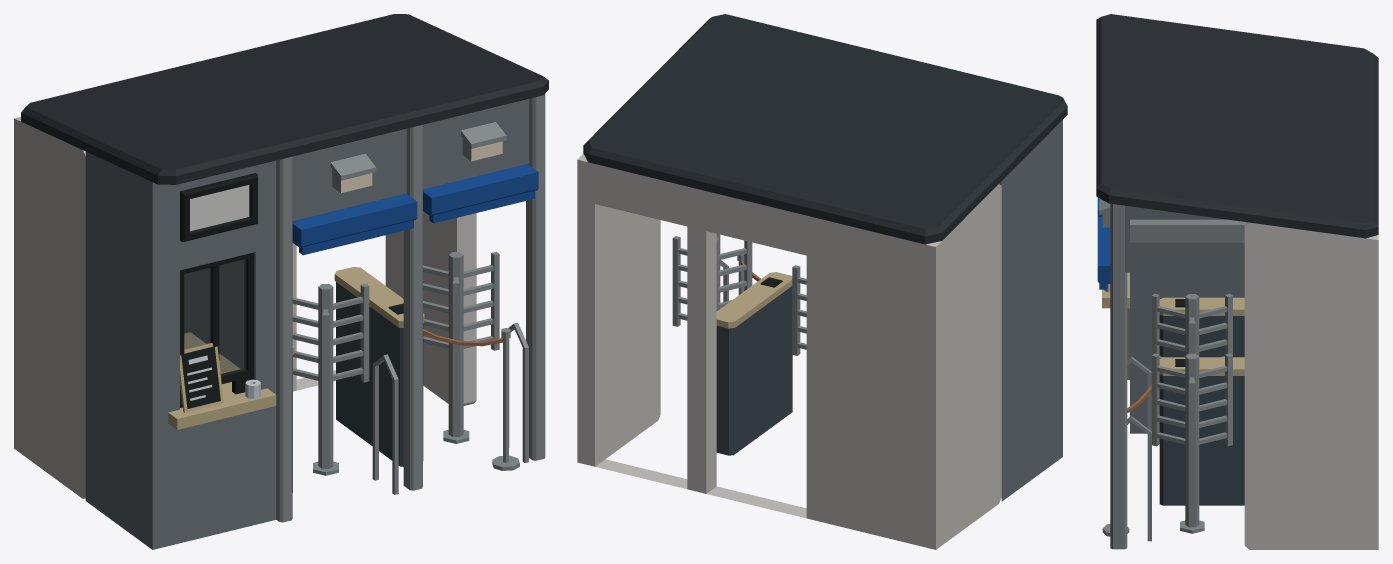
The model's file is nat.glb.
The picture shows the model from 3 angles, left to right: view 1: azimuth 30°, elevation 25°; view 2: azimuth 150°, elevation 25°; view 3: azimuth 270°, elevation 25°; orthographic projection. The views are drawn at different scales.
Parts seen in each view (by area): view 1: bank, drum-1-mesh, drum-2-mesh, glazing, price-board-mesh, queue-rail-mesh; view 2: bank, drum-2-mesh, drum-1-mesh; view 3: bank, drum-2-mesh, drum-1-mesh.
Part boxes in pixels (x1,y1,x2,y2): bank: [14, 14, 548, 549]; drum-1-mesh: [292, 283, 369, 475]; drum-2-mesh: [423, 251, 499, 443]; glazing: [184, 259, 246, 375]; price-board-mesh: [180, 343, 223, 412]; queue-rail-mesh: [423, 328, 519, 470]; bank: [577, 14, 1067, 549]; drum-2-mesh: [672, 236, 752, 326]; drum-1-mesh: [792, 265, 806, 355]; bank: [1096, 14, 1378, 549]; drum-2-mesh: [1151, 353, 1232, 533]; drum-1-mesh: [1151, 293, 1232, 358].
Bounding box in the file's own units: 3 × 2.81 × 2.
